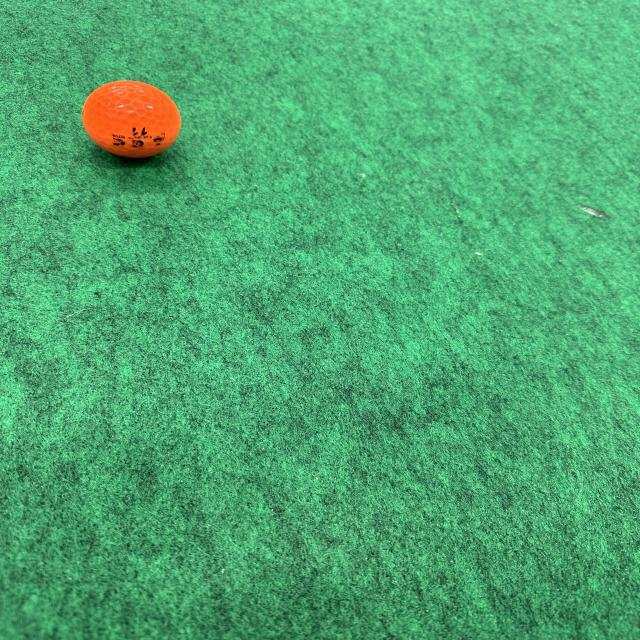ball: (78, 78, 183, 161)
